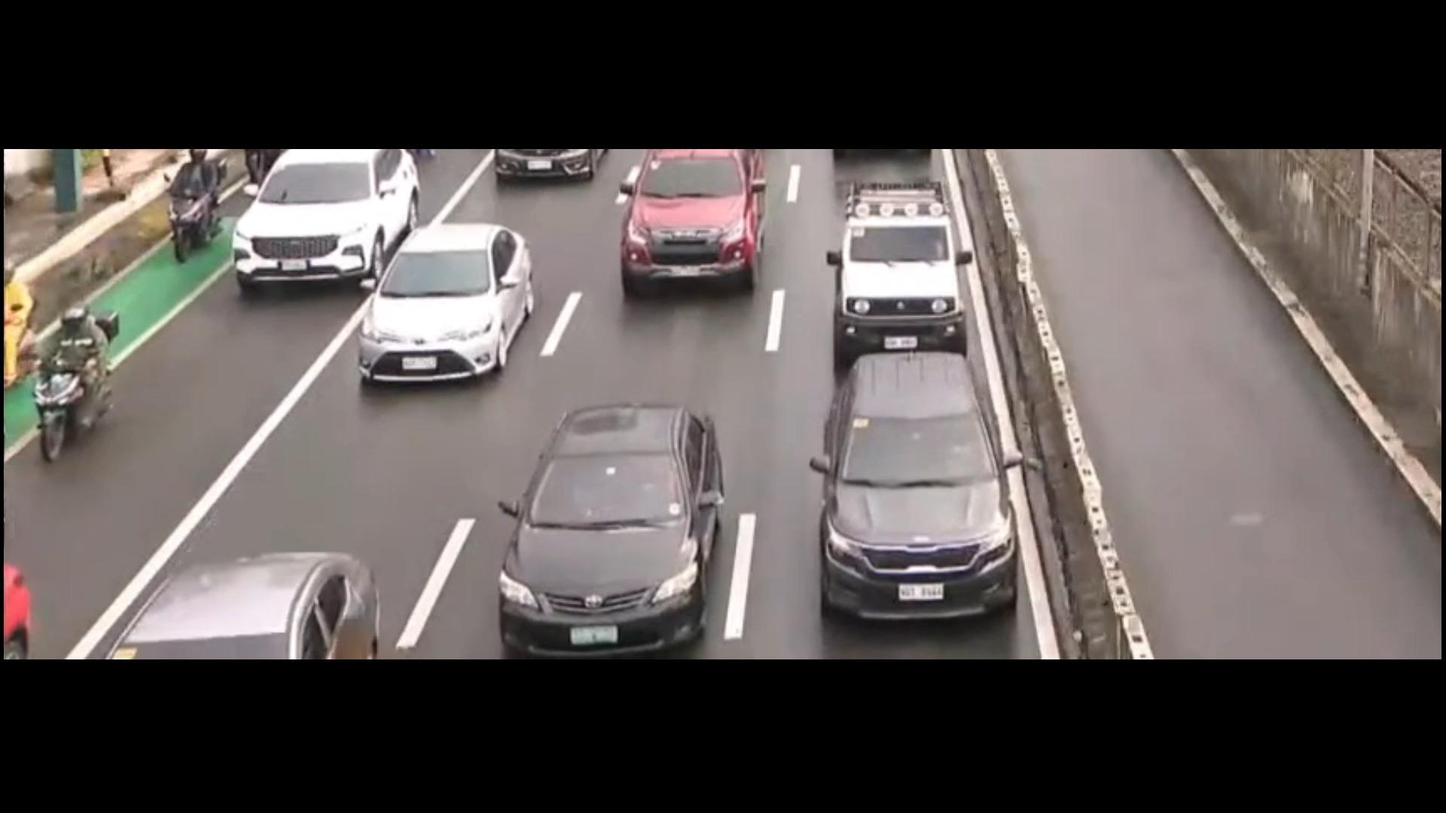Motorcycle: (28, 297, 115, 463), (166, 141, 222, 256)
Pickup: (827, 177, 974, 359)
SUV: (810, 350, 1030, 629), (233, 151, 418, 292), (618, 149, 766, 297)
Sedan: (488, 397, 715, 649), (348, 222, 548, 391), (88, 548, 377, 657)
